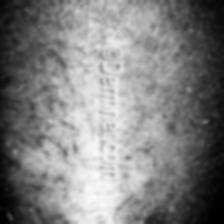Non-Cancerous Skin Condition: (0, 31, 96, 164)
